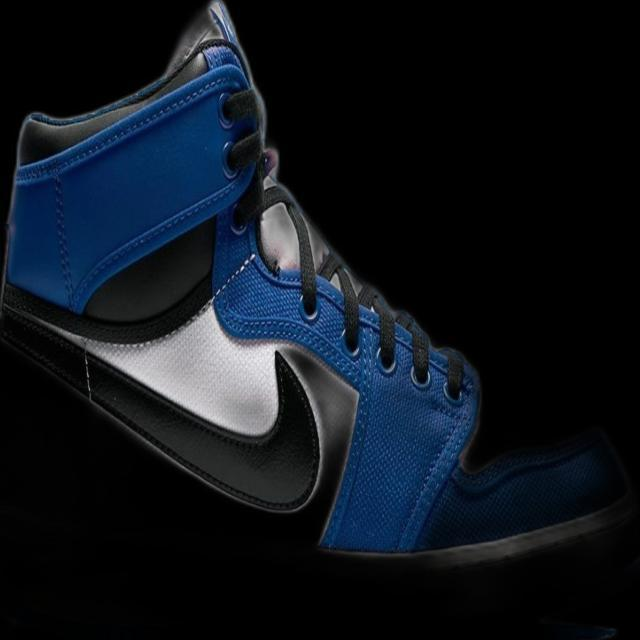J1_InsoleChar: (0, 0, 636, 580)
J1_MateComp: (0, 0, 268, 324)
J1_StitchPattern: (254, 159, 466, 400), (256, 181, 364, 350), (315, 252, 434, 382), (256, 173, 320, 317), (186, 249, 259, 322), (315, 248, 363, 350), (45, 177, 81, 310), (354, 281, 399, 367), (394, 308, 433, 384), (439, 346, 467, 401), (374, 304, 398, 367), (76, 343, 97, 402)
